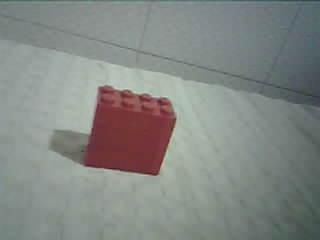lego: (82, 83, 178, 177)
